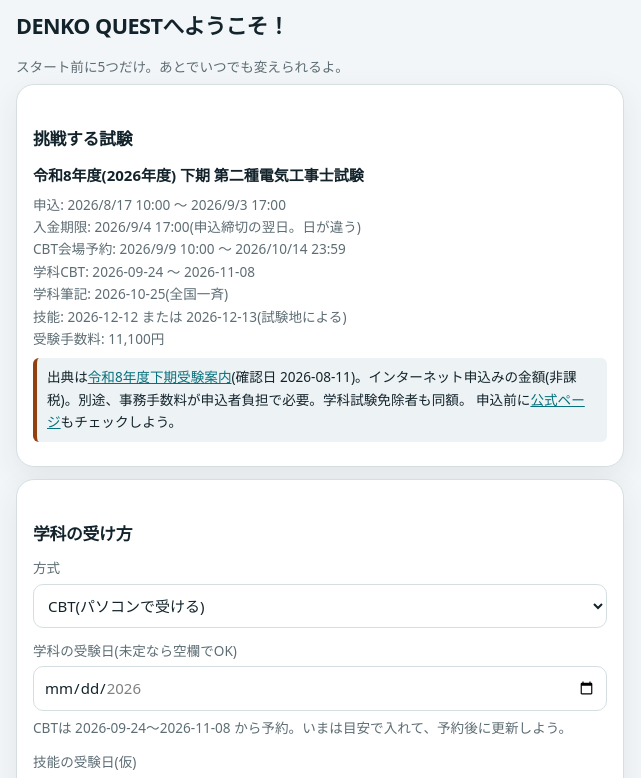
Sprint 1 の通し動作 › 【回帰】筆記方式を選ぶと学科日が公式日へ固定され、変更できない
Expected: the date field labelled "学科の受験日(未定なら空欄でOK)" is enabled, [33,666,607,711]
Select "筆記(2026-10-25 全国一斉)" in the dropdown labelled "方式" at {"x": 320, "y": 606}, box [33,584,607,628]
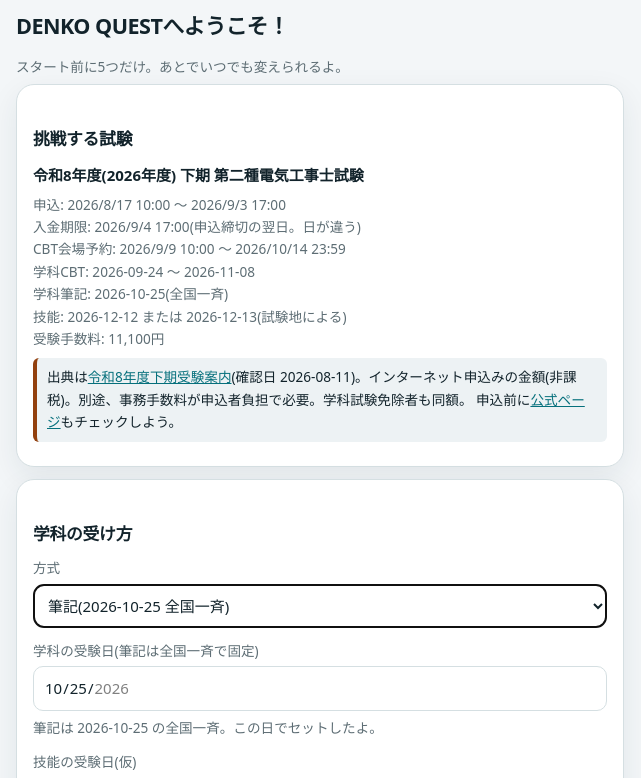
Now the date field labelled "学科の受験日(筆記は全国一斉で固定)" holds "2026-10-25", box [33,666,607,711]
Now the date field labelled "学科の受験日(筆記は全国一斉で固定)" is disabled, box [33,666,607,711]
Now the text "筆記は 2026-10-25 の全国一斉。この日でセットしたよ。" is shown, box [33,718,383,737]
